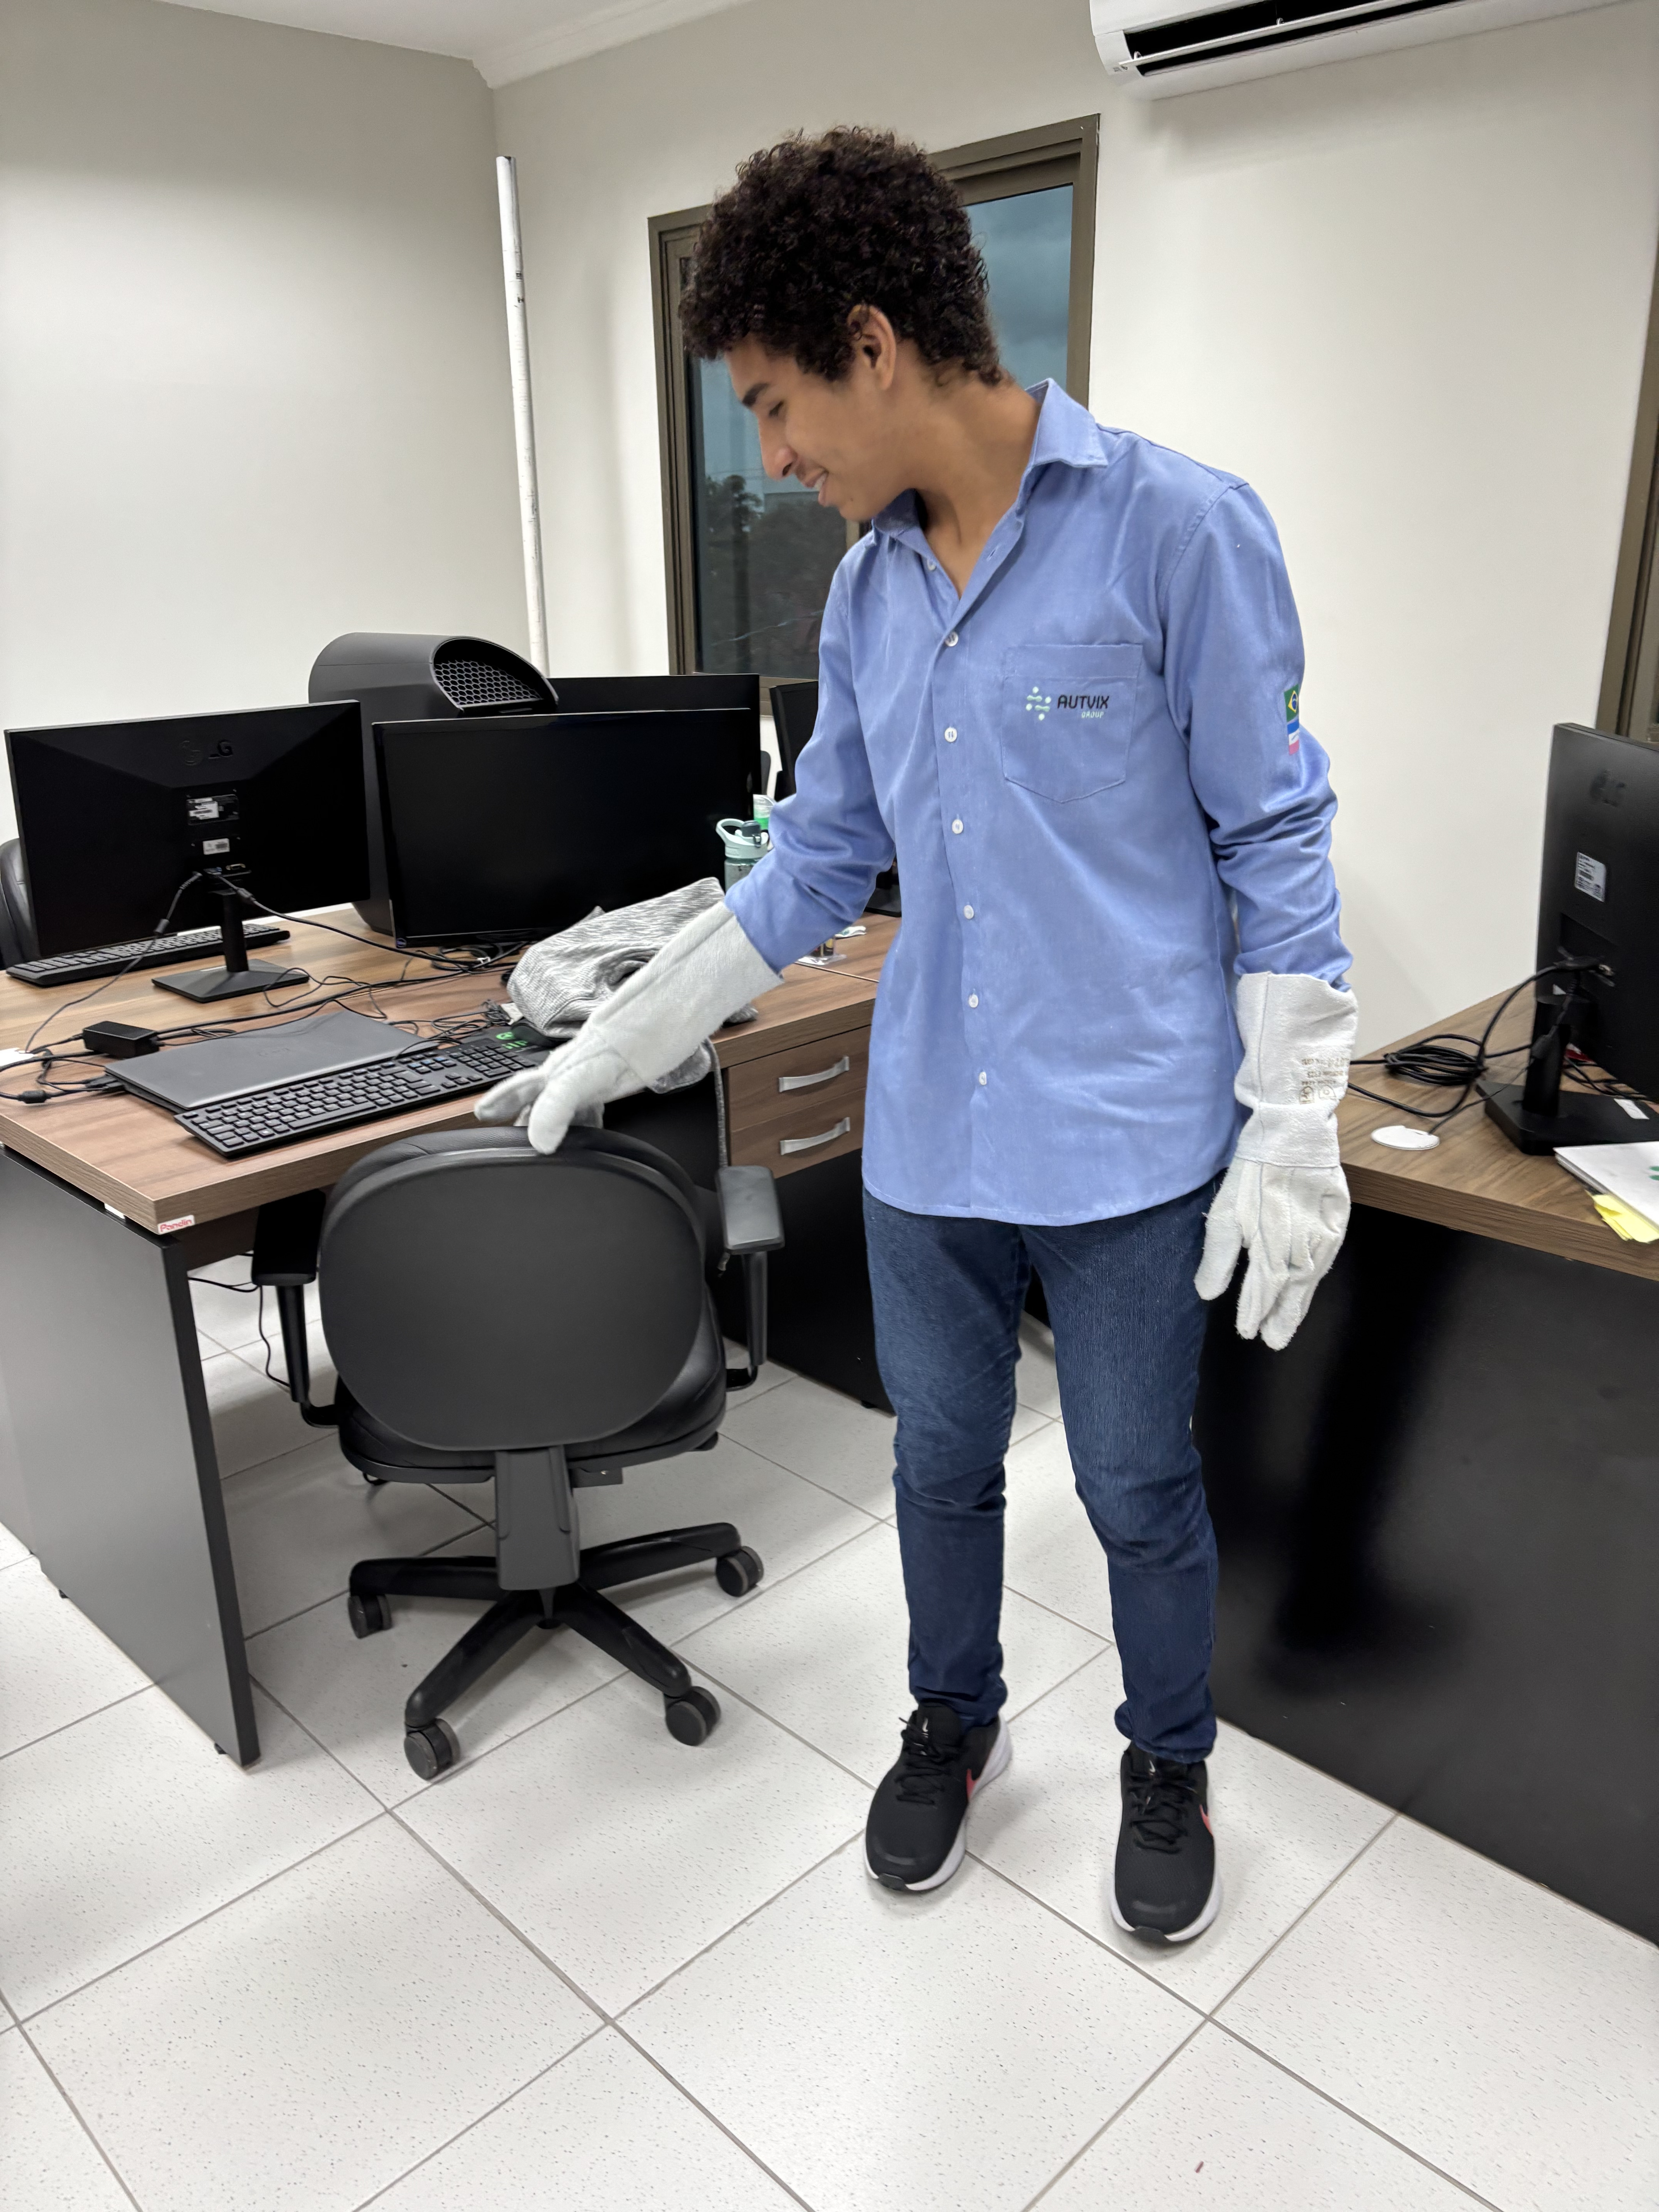Gloves: (467, 887, 786, 1150), (1199, 968, 1351, 1348)
